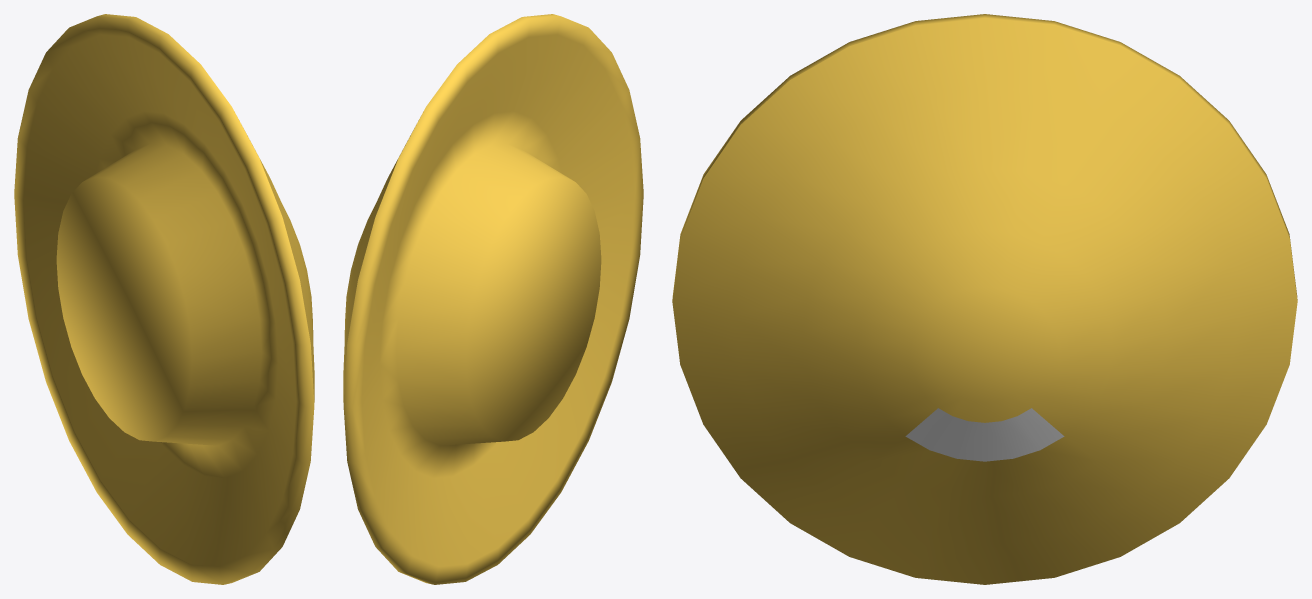
Rendered from huygens.glb.
3 renders of one model, left to right at view 1: azimuth 30°, elevation 25°; view 2: azimuth 150°, elevation 25°; view 3: azimuth 270°, elevation 25°, orthographic. The views are drawn at different scales.
Parts seen in each view (by area): view 1: huygens_probe; view 2: huygens_probe; view 3: huygens_probe.
Boxes of the visible parts, x1,y1,x2,y2 form: huygens_probe: (14, 14, 314, 584); huygens_probe: (343, 14, 643, 584); huygens_probe: (672, 14, 1297, 584).
Size of the model in its own units: 0.8058 by 2.62 by 2.62.
